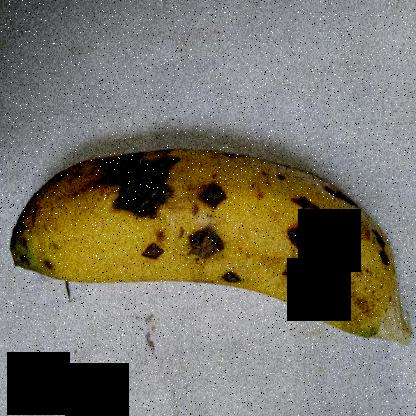rotten: (84, 133, 181, 224), (285, 176, 353, 263), (180, 204, 230, 267), (121, 229, 167, 278), (310, 281, 354, 321), (197, 174, 223, 214), (221, 265, 252, 296)
